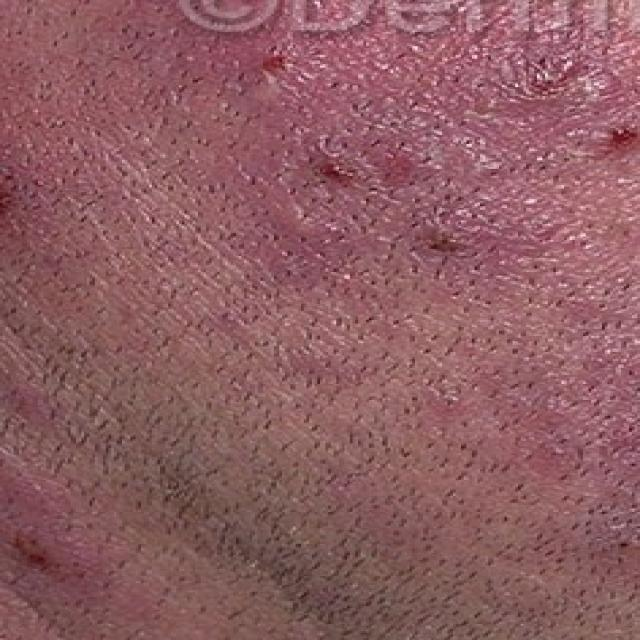Rosacea: (208, 38, 634, 288)
